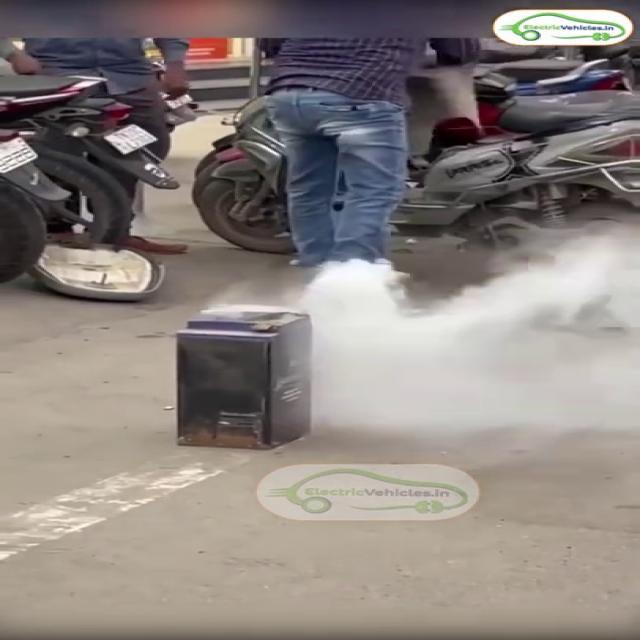Smoke: (290, 214, 640, 468)
